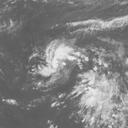cyclone: (37, 39, 75, 77)
